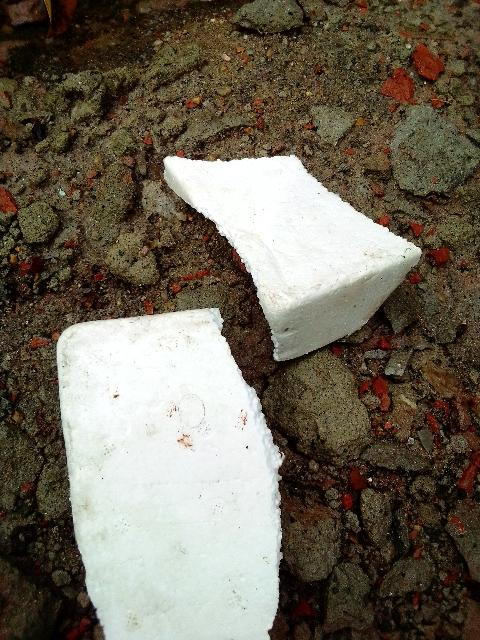cocksheet: (41, 288, 294, 640), (172, 79, 417, 349)
